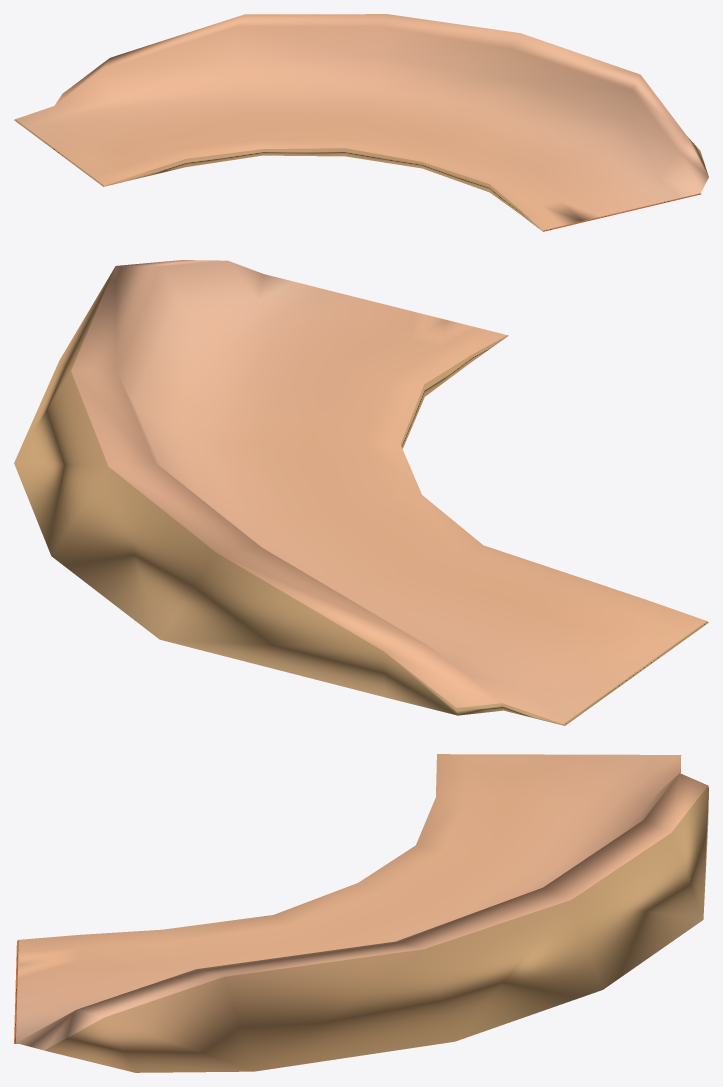
The model's file is DirtBikeSandTrackCurvedBerm.glb.
3 views of the same model, one above another, from view 1: azimuth 30°, elevation 25°; view 2: azimuth 150°, elevation 25°; view 3: azimuth 270°, elevation 25° (orthographic). The views are drawn at different scales.
Parts seen in each view (by area): view 1: DirtBikeSandTrackCurvedBerm; view 2: DirtBikeSandTrackCurvedBerm; view 3: DirtBikeSandTrackCurvedBerm.
Boxes of the visible parts, <box> form: DirtBikeSandTrackCurvedBerm: <box>14,14,708,231</box>; DirtBikeSandTrackCurvedBerm: <box>14,260,708,725</box>; DirtBikeSandTrackCurvedBerm: <box>14,754,708,1072</box>.
Size of the model in its own units: 12.35 by 1.42 by 11.38.
1 material, 1 textured.
